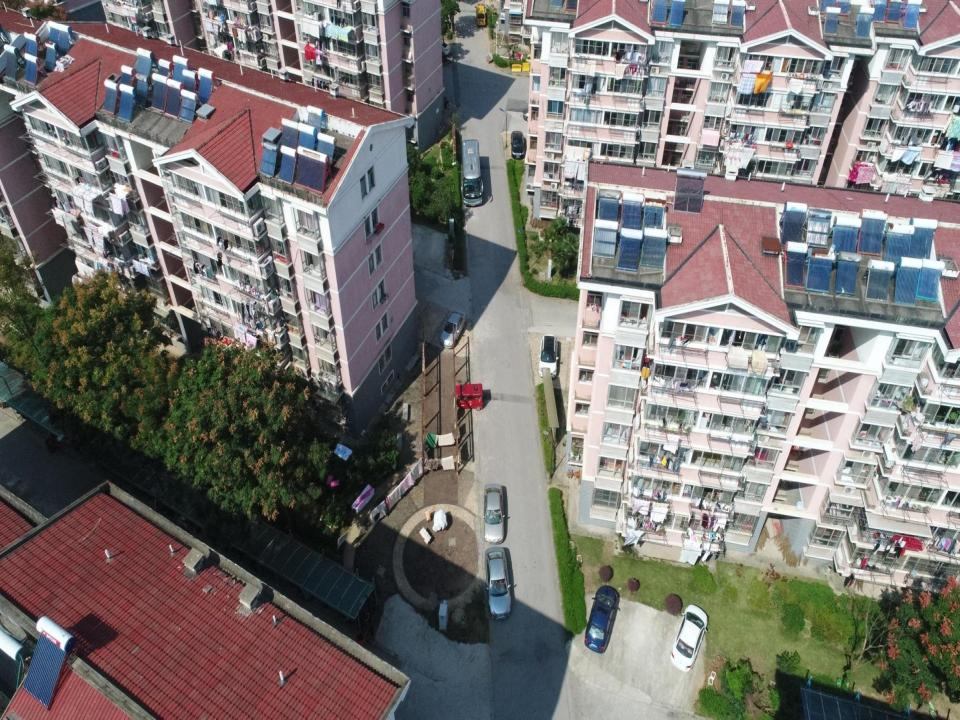bus: (460, 140, 484, 206)
car: (670, 603, 708, 672), (584, 585, 618, 653), (484, 546, 512, 620), (483, 483, 505, 544), (440, 309, 466, 349), (538, 334, 558, 379), (511, 130, 525, 159), (523, 107, 548, 122), (434, 40, 450, 56)
van: (475, 3, 486, 26)
